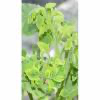Tomato leaf yellow virus: (52, 61, 65, 83), (25, 66, 42, 82), (28, 8, 42, 23), (36, 41, 52, 53), (39, 24, 48, 37), (65, 38, 72, 52)
